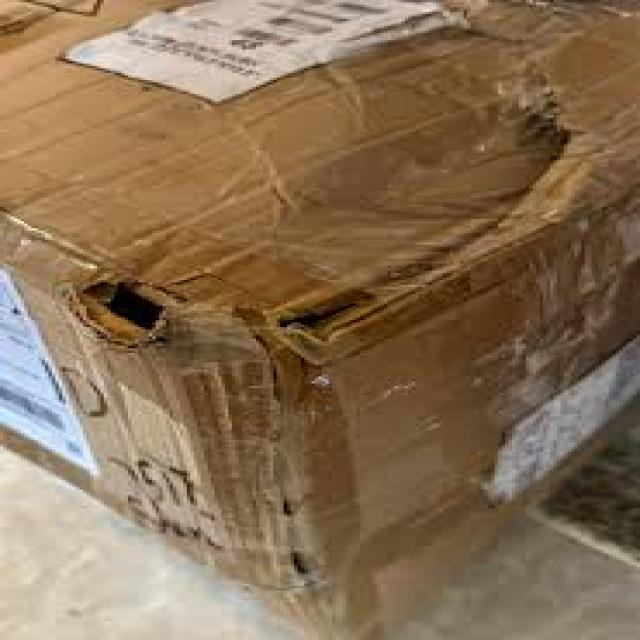package_damage: (48, 90, 640, 630)
